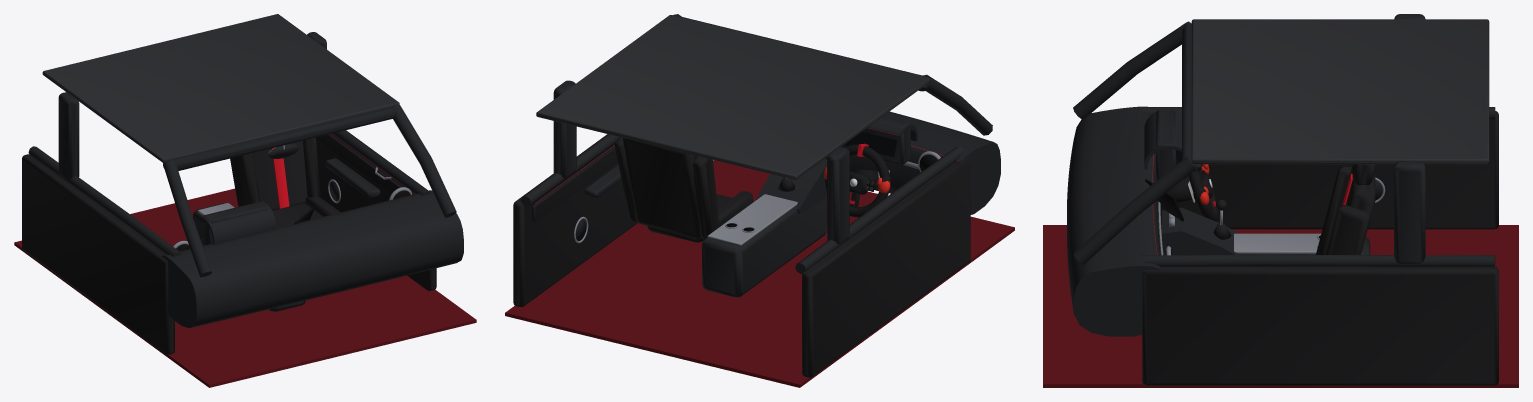
The model's file is int_toyota.glb.
3 views of the same model, side by side, from view 1: azimuth 30°, elevation 25°; view 2: azimuth 150°, elevation 25°; view 3: azimuth 270°, elevation 25° (orthographic). The views are drawn at different scales.
Parts seen in each view (by area): view 1: box.011, Dash, box.013, box, box.010, box.003, box.016, DoorTop, box.006, Pillar.001, Pillar, Hood (+10 smaller); view 2: box.011, box.013, box, box.003, box.014, box.016, Dash, DoorTop, box.006, box.015, Stack, box.017 (+12 smaller); view 3: box.011, box.003, Dash, box.013, box, DoorTop.001, box.008, Stack, Pillar.001, Pillar, box.015, box.019 (+8 smaller).
Part boxes in pixels (<box>): box.011: <box>42,14,399,163</box>; Dash: <box>162,190,463,328</box>; box.013: <box>14,188,476,387</box>; box: <box>22,154,174,354</box>; box.010: <box>163,106,395,170</box>; box.003: <box>316,130,436,290</box>; box.016: <box>252,141,307,210</box>; DoorTop: <box>28,146,181,256</box>; box.006: <box>58,92,79,180</box>; Pillar.001: <box>392,105,456,217</box>; Pillar: <box>163,160,211,277</box>; Hood: <box>198,201,276,244</box>; box.011: <box>536,15,929,179</box>; box.013: <box>505,160,1014,387</box>; box: <box>802,158,970,377</box>; box.003: <box>513,134,637,307</box>; box.014: <box>702,197,826,297</box>; box.016: <box>623,138,701,238</box>; Dash: <box>825,111,1000,214</box>; DoorTop: <box>795,146,964,273</box>; box.006: <box>827,147,849,244</box>; box.015: <box>707,194,797,245</box>; Stack: <box>756,159,826,214</box>; box.017: <box>693,156,718,238</box>; box.011: <box>1191,19,1489,164</box>; box.003: <box>1142,266,1498,385</box>; Dash: <box>1067,106,1160,336</box>; box.013: <box>1043,225,1518,387</box>; box: <box>1160,111,1498,229</box>; DoorTop.001: <box>1142,254,1495,266</box>; box.008: <box>1394,161,1425,263</box>; Stack: <box>1162,207,1238,255</box>; Pillar.001: <box>1073,156,1195,264</box>; Pillar: <box>1073,21,1191,119</box>; box.015: <box>1234,233,1320,253</box>; box.019: <box>1325,205,1369,254</box>.
Size of the model in its own units: 1.93 by 1.22 by 2.4.
